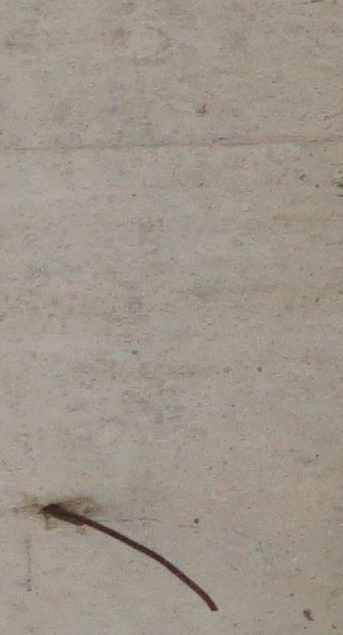Exposed reinforcement: (37, 504, 219, 612)
